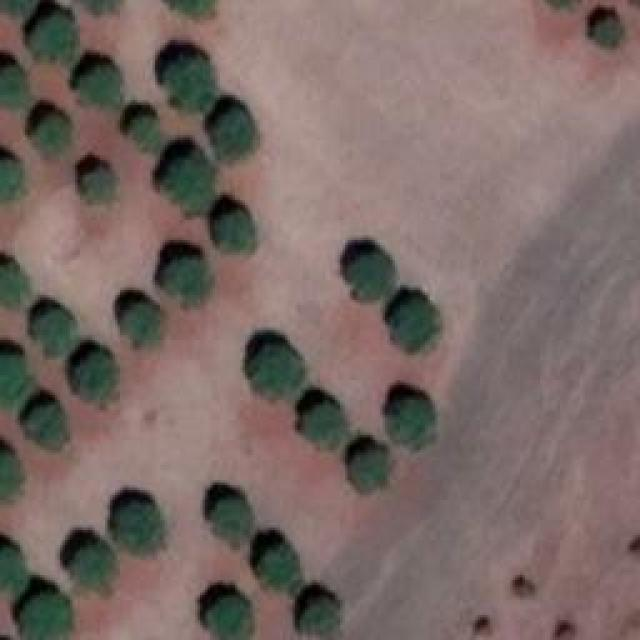Tree: (200, 105, 255, 173), (165, 50, 220, 115), (165, 150, 220, 213), (385, 295, 440, 353), (60, 348, 118, 403), (253, 343, 306, 403), (115, 502, 165, 560), (385, 393, 435, 448), (23, 10, 78, 60), (20, 590, 73, 640), (340, 248, 390, 301), (70, 540, 120, 590), (23, 398, 73, 448), (160, 248, 208, 298), (210, 592, 255, 640), (292, 595, 340, 640), (300, 400, 345, 448), (210, 497, 253, 545), (30, 307, 73, 355), (28, 110, 71, 158), (80, 63, 125, 108), (123, 295, 163, 345), (258, 545, 301, 590), (345, 443, 388, 488), (210, 203, 250, 246), (78, 165, 121, 205), (585, 13, 625, 56), (0, 544, 32, 597), (0, 350, 30, 405), (0, 65, 35, 110), (127, 115, 165, 153), (0, 260, 32, 305), (0, 450, 22, 490), (0, 157, 18, 205)
